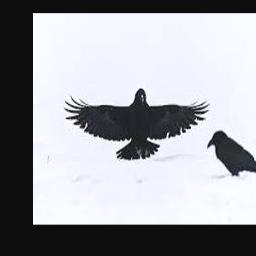Crow: (63, 88, 209, 160), (207, 130, 256, 176)
